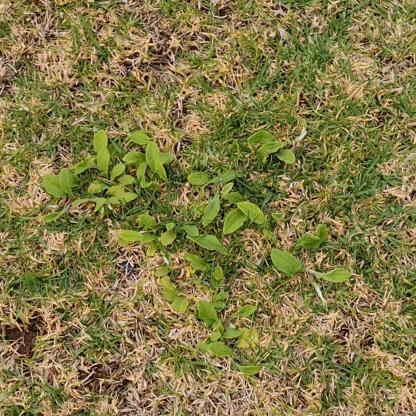Weeds: (43, 129, 351, 374)
